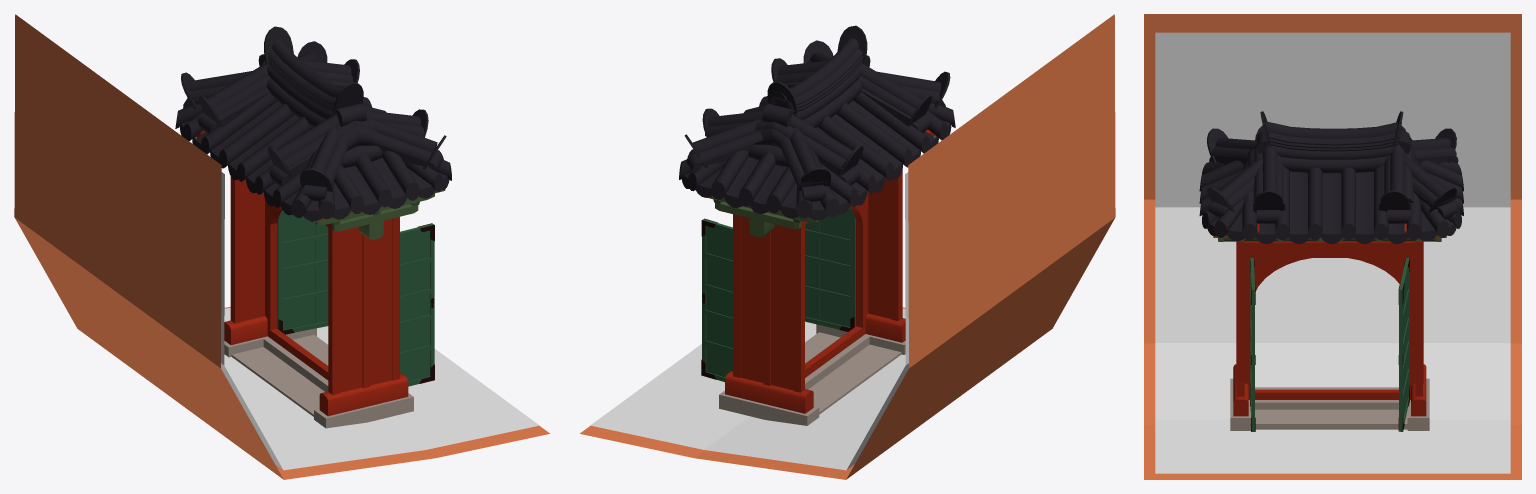
The model's file is ConceptDaemun_and_scroll_simple.fbx.
3 views of the same model, side by side, from view 1: azimuth 30°, elevation 25°; view 2: azimuth 150°, elevation 25°; view 3: azimuth 270°, elevation 25° (orthographic). The views are drawn at different scales.
Parts seen in each view (by area): view 1: Paper, DaemunFrame, Door1, Door2; view 2: Paper, DaemunFrame, Door2, Door1; view 3: Paper, DaemunFrame, Door1, Door2.
Part boxes in pixels (box(x1,y1,x2,y2)): Paper: box(14, 14, 549, 479); DaemunFrame: box(175, 26, 451, 428); Door1: box(277, 210, 328, 334); Door2: box(400, 223, 434, 386); Paper: box(580, 14, 1115, 479); DaemunFrame: box(679, 25, 955, 425); Door2: box(805, 207, 855, 331); Door1: box(701, 218, 732, 381); Paper: box(1144, 14, 1521, 479); DaemunFrame: box(1199, 111, 1463, 430); Door1: box(1398, 258, 1409, 431); Door2: box(1250, 258, 1255, 431).
Bounding box in the file's own units: 636 × 643 × 690.
